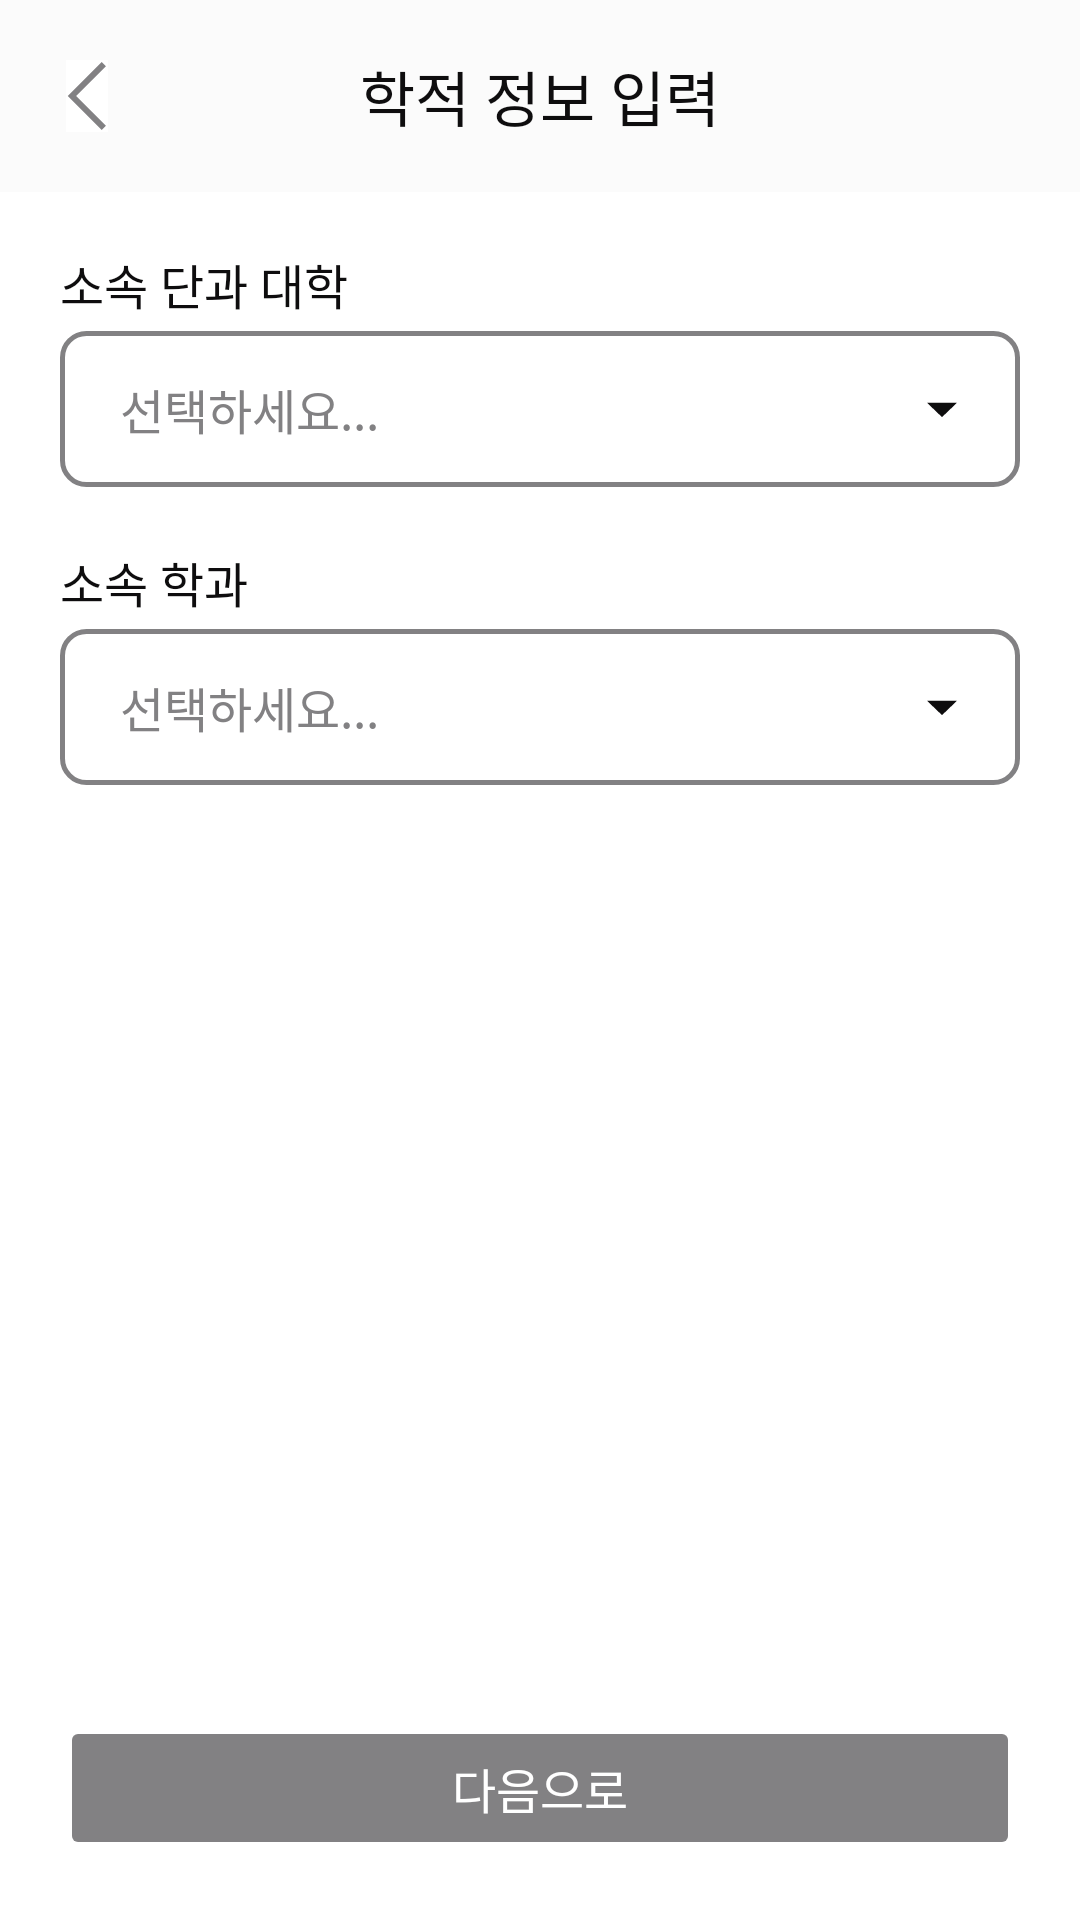

Icon click points for this 1080 × 1920 phone screenshot, format [x,y]:
dropdown: [942,409], [942,707]
navigation: [87,96]
